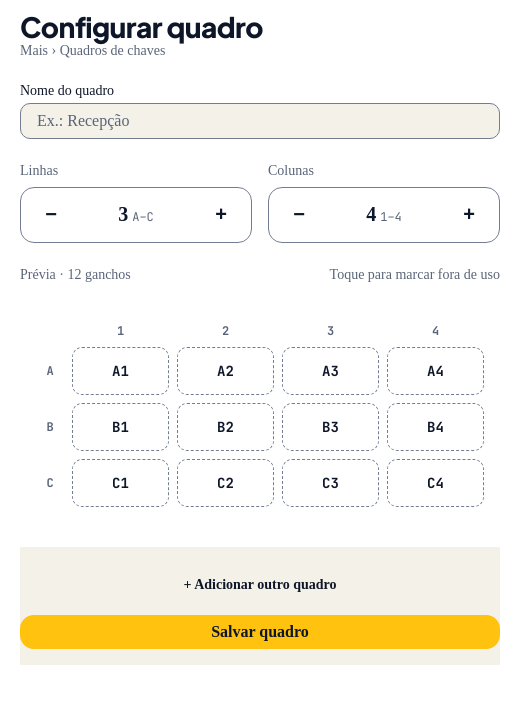
QuadroForm (criar) › sem nome não salva e mostra o erro
Click the button "Salvar quadro": click(260, 632) [20,615,500,649]
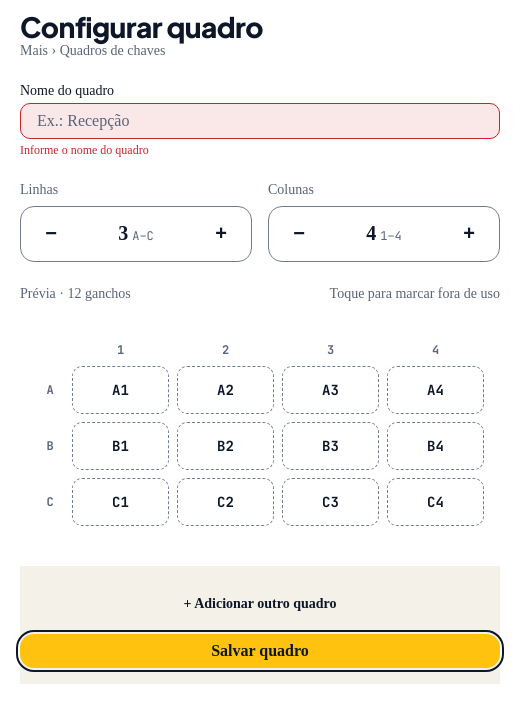
Now the text "Informe o nome do quadro" is shown, box [20,143,149,157]
